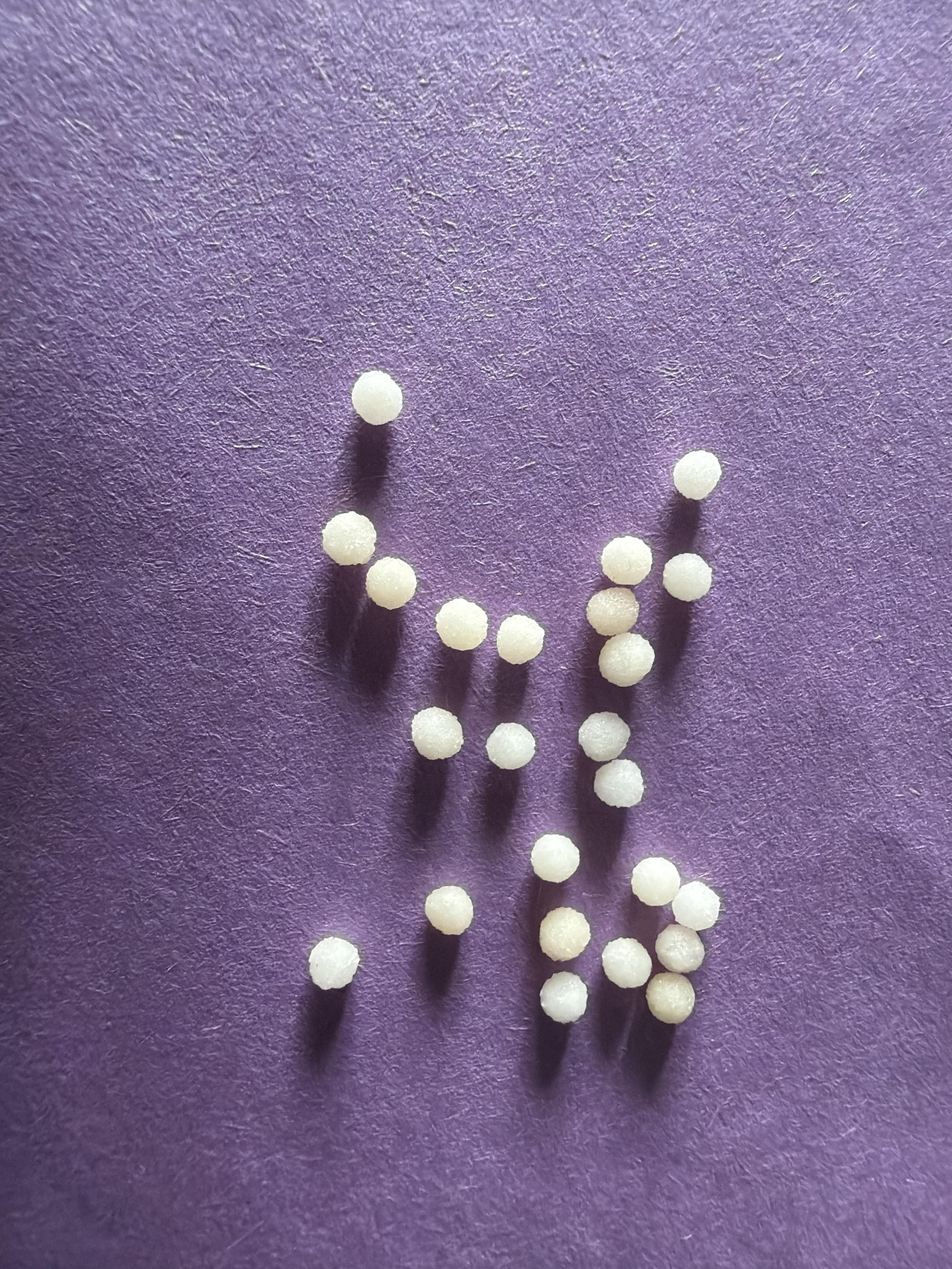pill: (599, 632, 654, 686), (322, 511, 376, 565), (351, 370, 402, 425), (435, 598, 488, 650), (539, 907, 590, 961), (411, 707, 463, 759), (309, 936, 360, 989), (366, 557, 416, 610), (586, 586, 639, 636), (578, 712, 630, 762), (601, 536, 652, 586), (655, 924, 705, 974), (672, 450, 722, 500), (496, 614, 545, 665), (540, 971, 587, 1024), (594, 759, 644, 808), (602, 938, 651, 988), (424, 885, 473, 935), (646, 973, 695, 1023), (485, 722, 536, 770), (662, 553, 713, 601), (530, 833, 579, 882), (631, 857, 680, 906), (672, 881, 720, 930)
